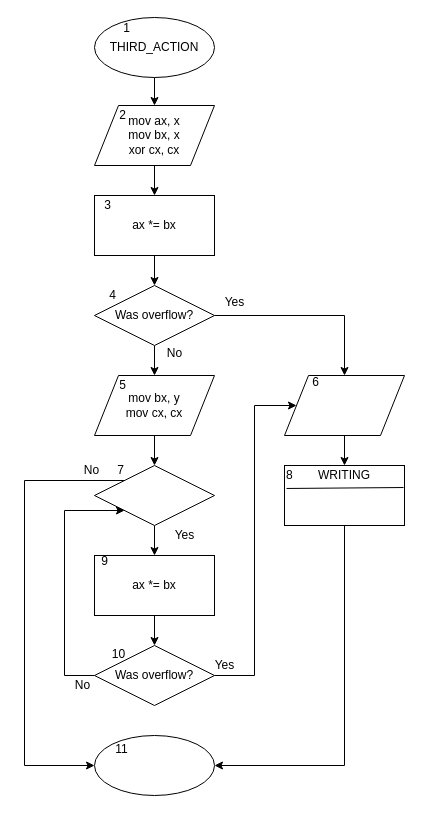
This 423x813 diagram has some shape labels left out. Here are the shapes that lost their labels. From the top down, the box of each, then its label:
(284, 374, 404, 436): mov was_overflow, 1 lea dx, errorStr
(94, 464, 214, 526): cx > 0
(284, 464, 404, 526): Displays a string, pointer is stored in dx
(94, 734, 214, 796): END
